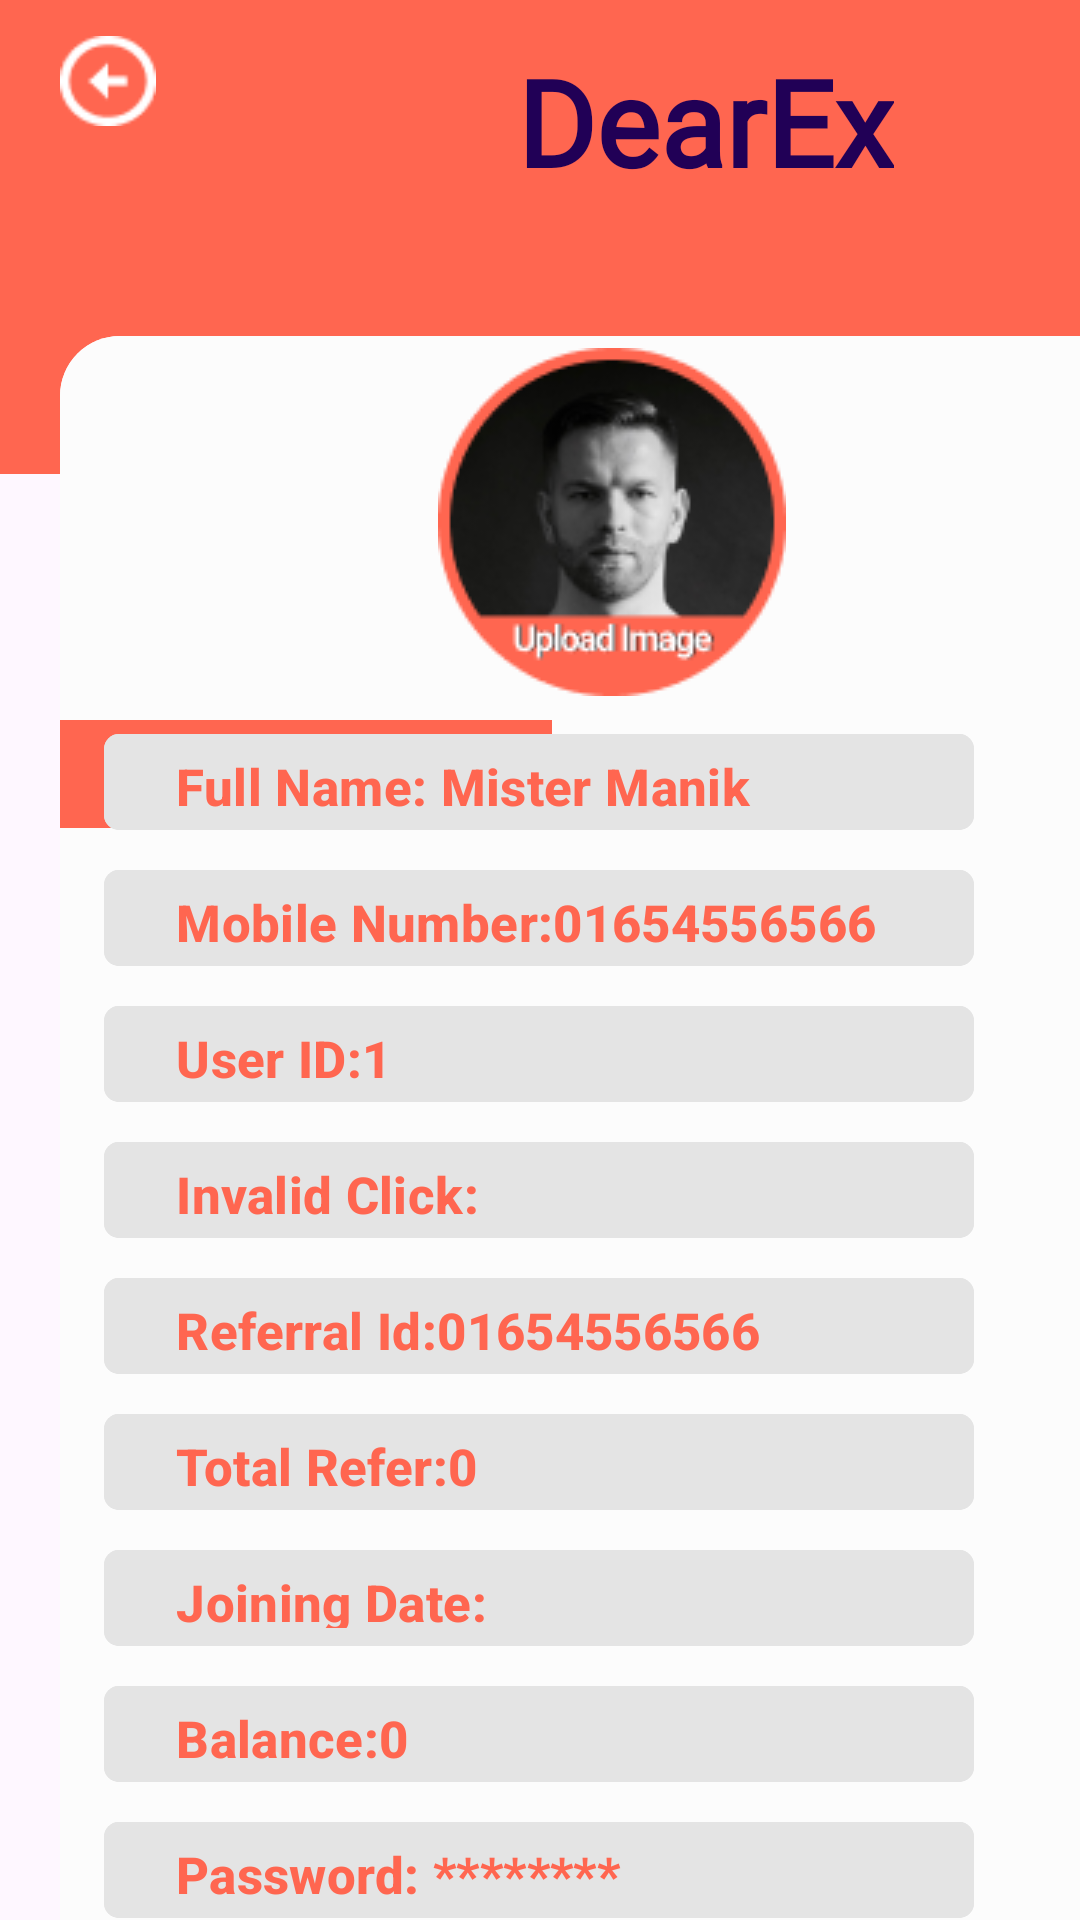

Icons on this 1080 x 1920 Android screen, each with the point to tap as (x=x, y=y):
back: (x=108, y=81)
